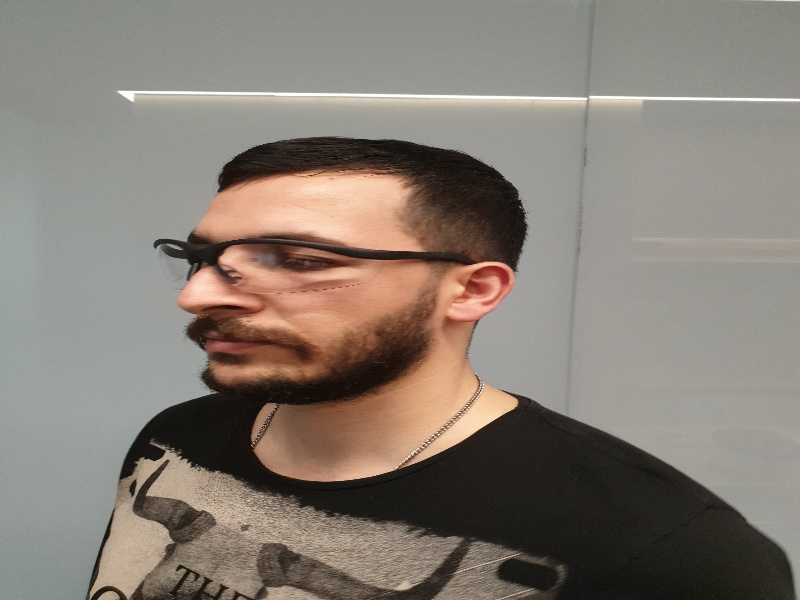Gozluk: (154, 239, 477, 296)
